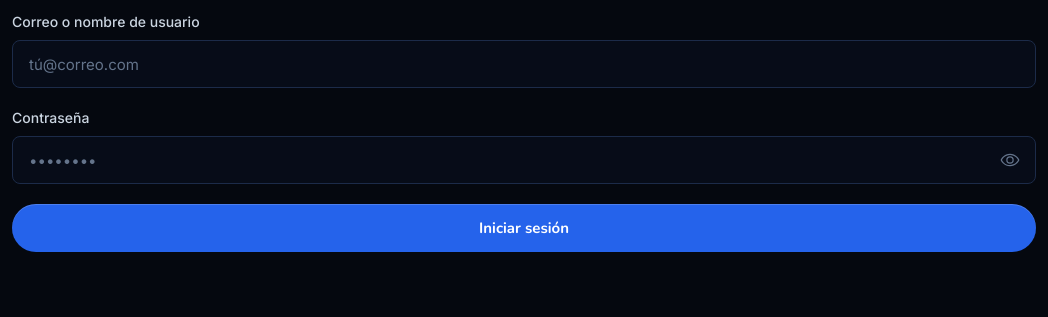
Test: LoginForm › sin completar no envía, explica qué falta y lleva el foco al primer campo
Click the button "Iniciar sesión" at point(524, 228), box [12, 204, 1036, 252]
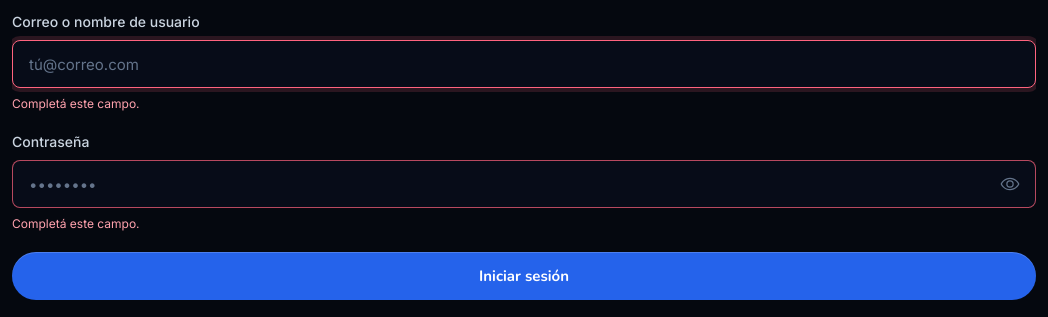
Check: the text "Completá este campo." is shown 2 times, box [12, 96, 140, 111]; [12, 216, 140, 231]
